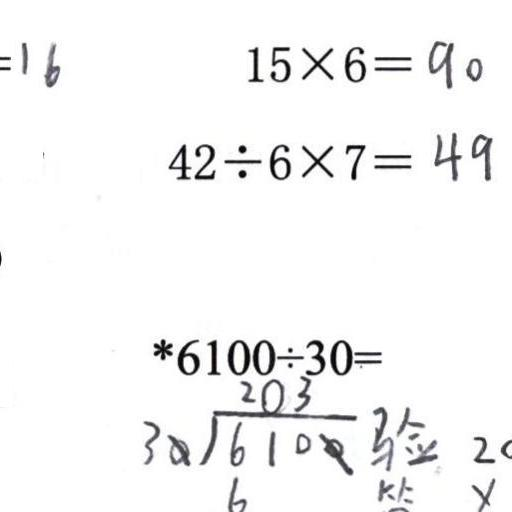ans: (429, 123, 494, 182), (423, 34, 482, 89), (16, 35, 62, 88)
